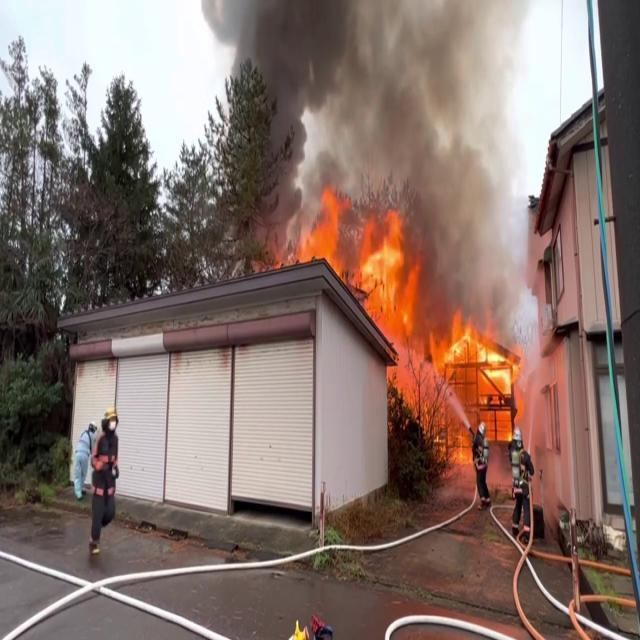Fire: (413, 317, 525, 468), (355, 226, 432, 396), (272, 190, 344, 274)
Smoke: (216, 0, 534, 263)
